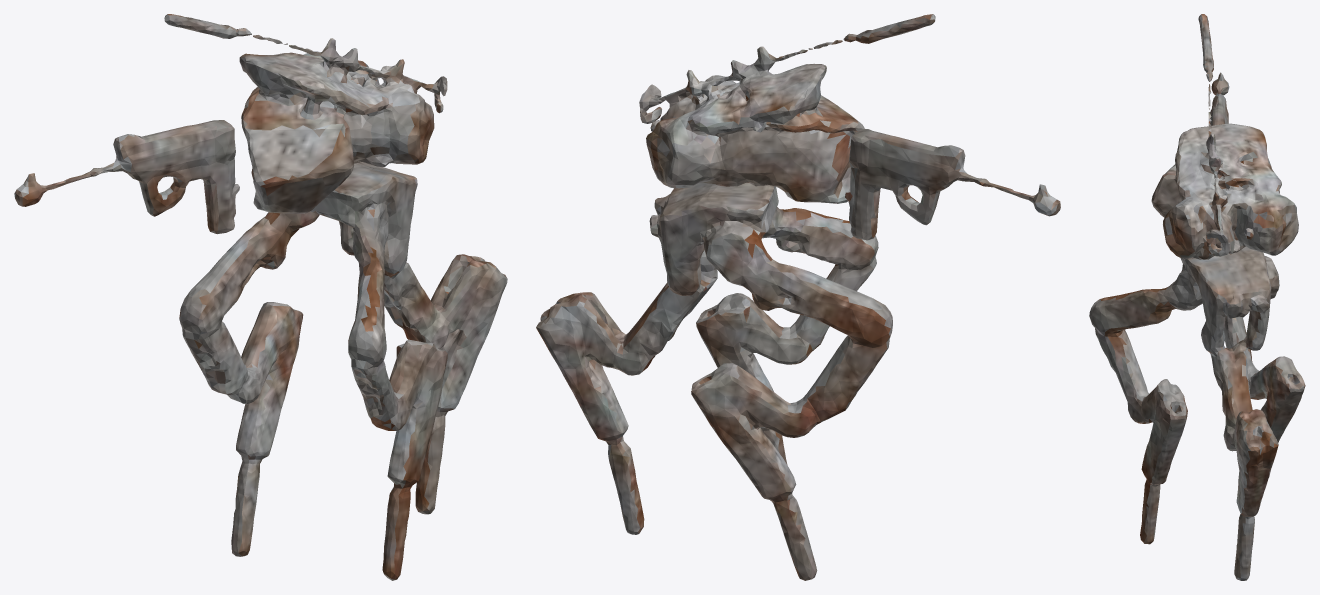
The model's file is debris_hunter_v2.glb.
The picture shows the model from 3 angles, left to right: view 1: azimuth 30°, elevation 25°; view 2: azimuth 150°, elevation 25°; view 3: azimuth 270°, elevation 25°; orthographic projection. The views are drawn at different scales.
Visible parts, largest first — view 1: Mesh_0; view 2: Mesh_0; view 3: Mesh_0.
Boxes of the visible parts, x1=… form: Mesh_0: x1=14, y1=14, x2=507, y2=580; Mesh_0: x1=536, y1=14, x2=1060, y2=580; Mesh_0: x1=1089, y1=14, x2=1305, y2=580.
Bounding box in the file's own units: 1.78 × 1.96 × 0.8357.
Materials: 1 (1 with a texture image).
